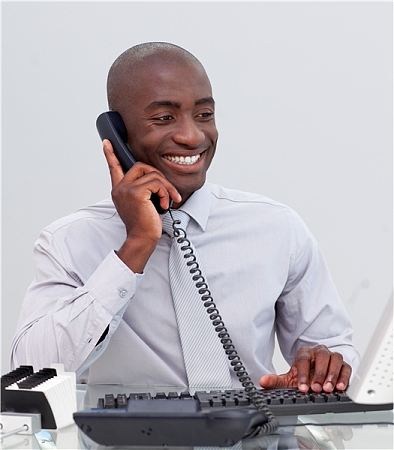talk: (97, 90, 219, 248)
